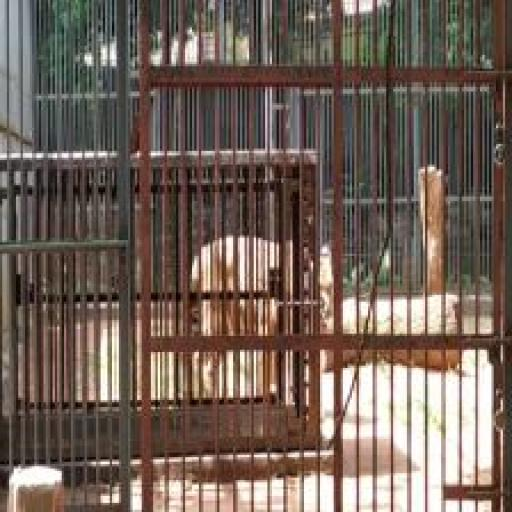Tiger: (180, 206, 342, 427)
